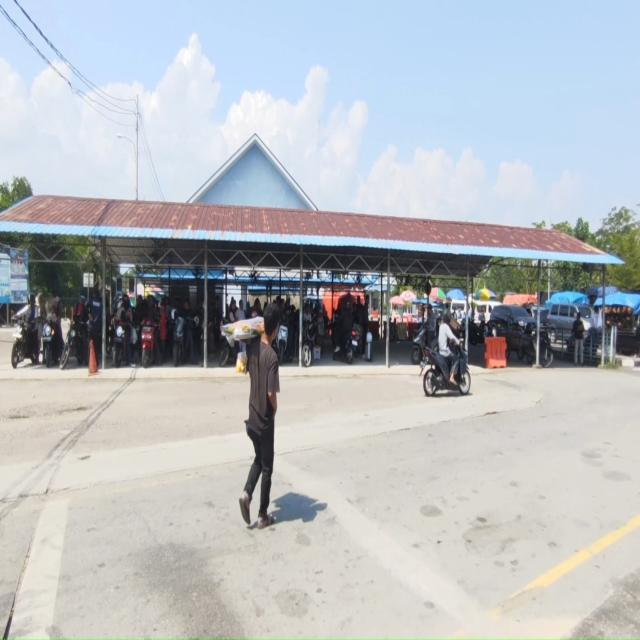Golongan II: (420, 345, 471, 396), (11, 305, 39, 369), (516, 325, 554, 368), (173, 310, 198, 367), (59, 322, 86, 370), (333, 328, 358, 365), (219, 322, 239, 368), (112, 319, 130, 368), (140, 320, 158, 369), (172, 310, 186, 367), (42, 317, 57, 368), (411, 322, 428, 365), (302, 320, 317, 367), (274, 323, 288, 365), (351, 324, 366, 358), (468, 320, 488, 345), (315, 312, 325, 355)
